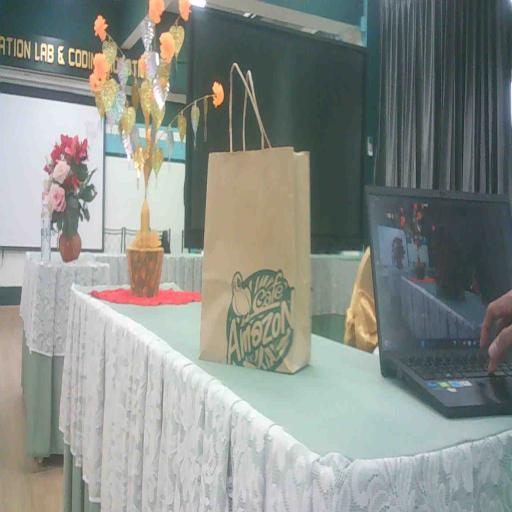bag: (190, 138, 320, 390)
